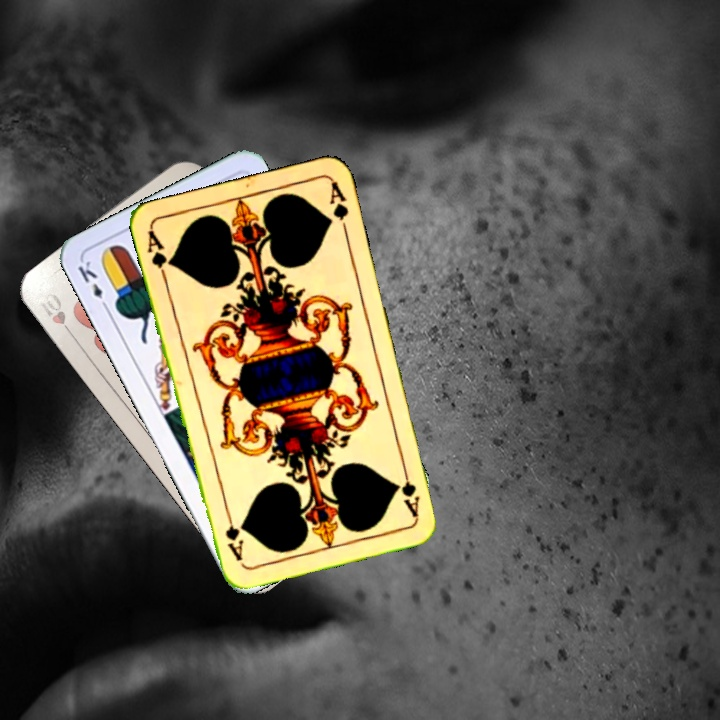EK: (73, 256, 112, 313)
GA: (143, 226, 175, 284), (395, 461, 422, 520)
H10: (32, 288, 79, 342)
